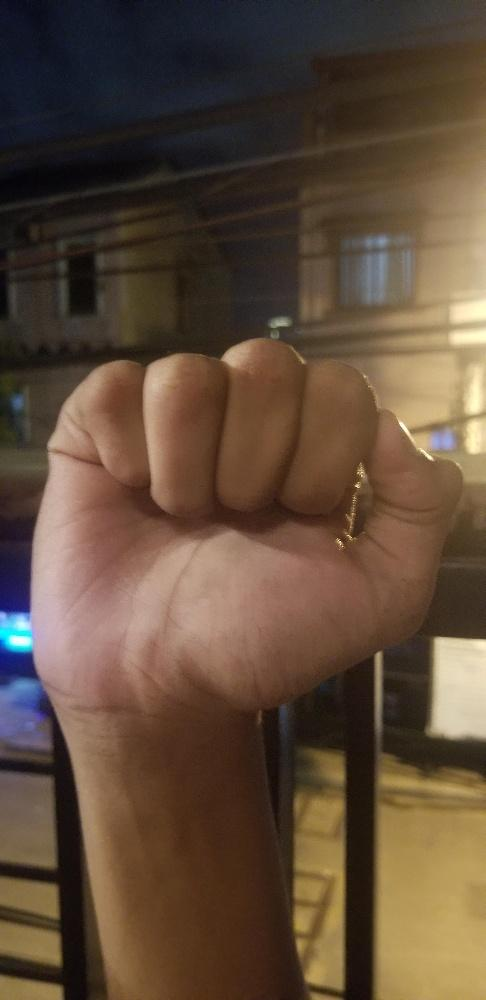a: (24, 332, 465, 717)
